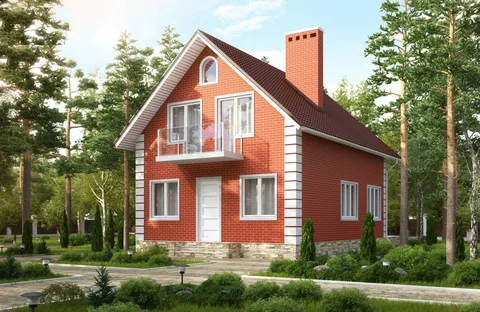private_hause: (126, 50, 390, 244)
